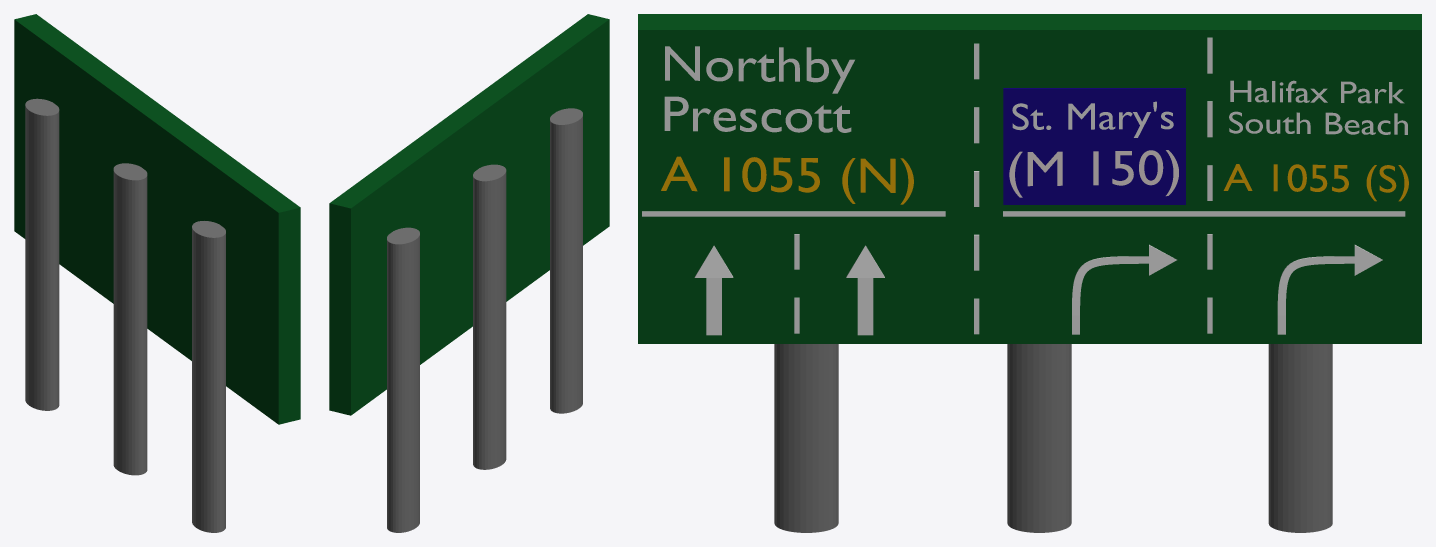
Rendered from HalifaxParkRoundaboutSign2.fbx.
3 views of the same model, side by side, from view 1: azimuth 30°, elevation 25°; view 2: azimuth 150°, elevation 25°; view 3: azimuth 270°, elevation 25° (orthographic). The views are drawn at different scales.
Visible parts, largest first — view 1: HalifaxParkRoundaboutBoard, SignPoles.001, SignPoles.002, SignPoles; view 2: HalifaxParkRoundaboutBoard, SignPoles.001, SignPoles, SignPoles.002; view 3: HalifaxParkRoundaboutBoard, Cube, SignPoles, SignPoles.001, SignPoles.002, Text, Text.001, Text.005, Arrows.002, Text.003, Arrows, Text.004 (+6 smaller).
Boxes of the visible parts, x1,y1,x2,y2 form: HalifaxParkRoundaboutBoard: [14, 14, 300, 424]; SignPoles.001: [113, 163, 147, 475]; SignPoles.002: [25, 98, 59, 410]; SignPoles: [192, 221, 225, 532]; HalifaxParkRoundaboutBoard: [329, 14, 609, 415]; SignPoles.001: [473, 164, 506, 469]; SignPoles: [550, 108, 582, 413]; SignPoles.002: [387, 227, 419, 532]; HalifaxParkRoundaboutBoard: [638, 14, 1421, 343]; Cube: [1003, 88, 1185, 204]; SignPoles: [774, 344, 838, 532]; SignPoles.001: [1007, 344, 1071, 532]; SignPoles.002: [1268, 344, 1332, 532]; Text: [664, 46, 854, 132]; Text.001: [661, 156, 913, 204]; Text.005: [1229, 80, 1407, 134]; Arrows.002: [1003, 211, 1405, 216]; Text.003: [1009, 150, 1178, 197]; Arrows: [642, 211, 945, 216]; Text.004: [1223, 164, 1408, 201].
Bounding box in the file's own units: 85.21 × 548 × 750.
